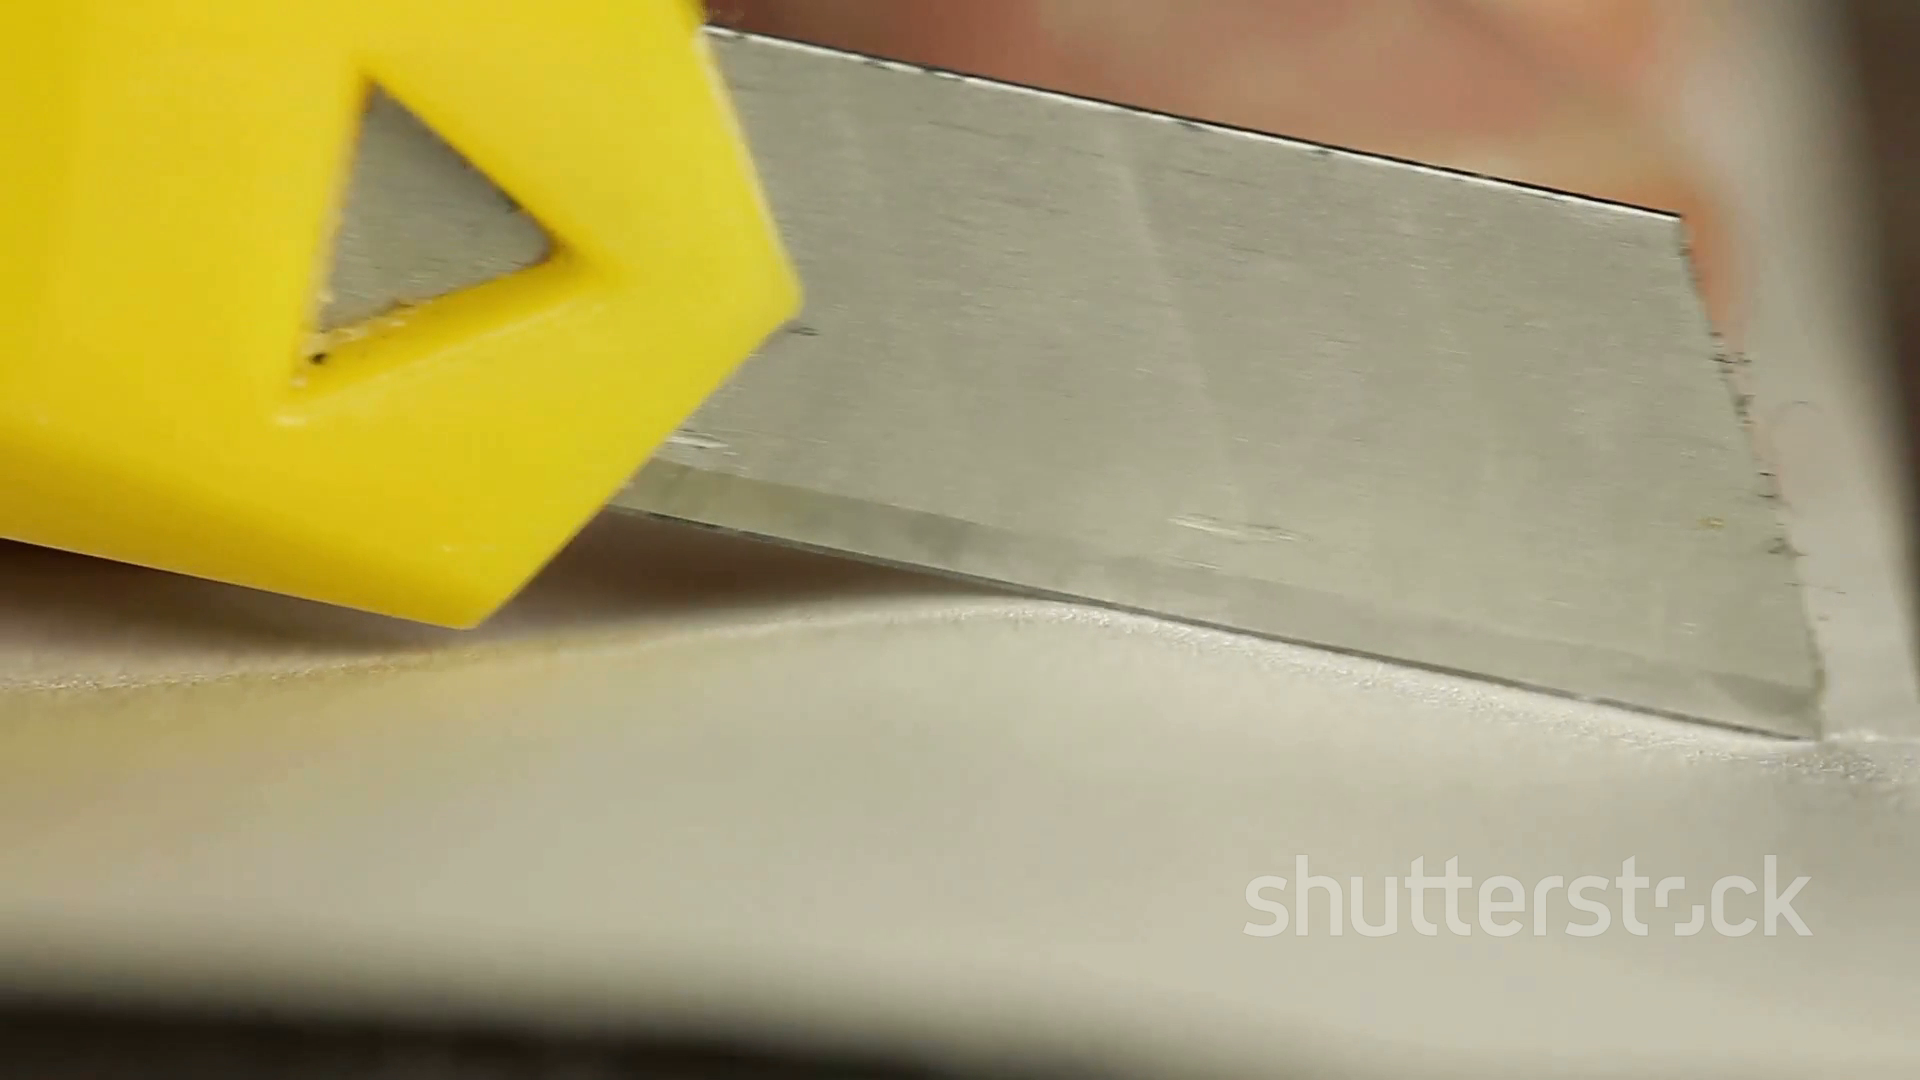cortante: (603, 25, 1818, 737)
